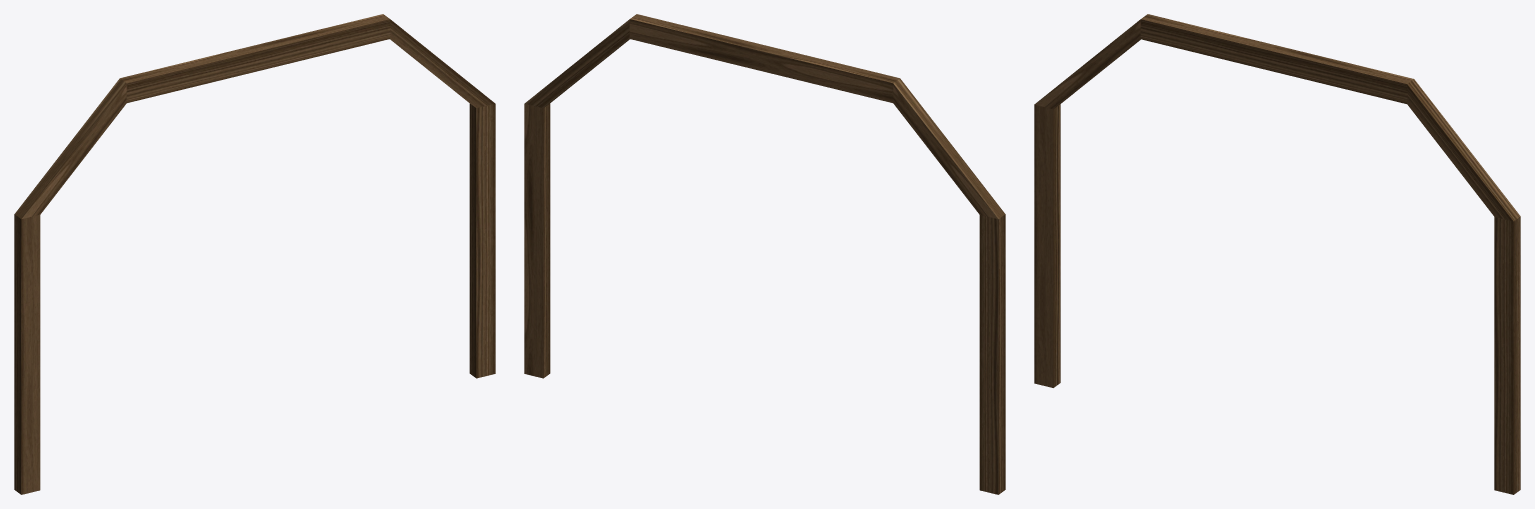
Rendered from Wooden 16.glb.
3 renders of one model, left to right at view 1: azimuth 30°, elevation 25°; view 2: azimuth 150°, elevation 25°; view 3: azimuth 330°, elevation 25°, orthographic.
Parts seen in each view (by area): view 1: Wooden_16; view 2: Wooden_16; view 3: Wooden_16.
Part boxes in pixels (left/top/right/bottom): Wooden_16: left=14, top=14, right=495, bottom=494; Wooden_16: left=524, top=14, right=1005, bottom=494; Wooden_16: left=1034, top=14, right=1520, bottom=494.
Size of the model in its own units: 1.98 by 1.54 by 0.0504.
Materials: 1 (1 with a texture image).
